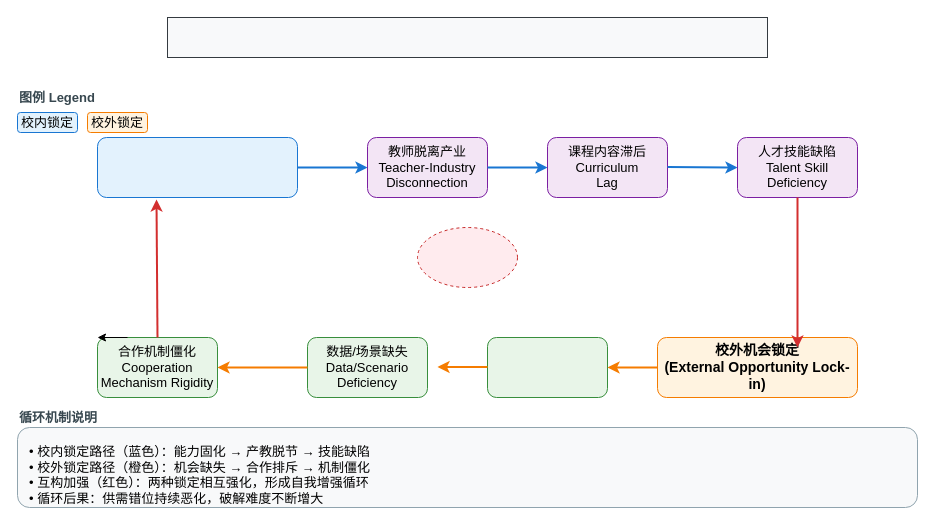
The diagram is 935 pixels wide and 525 high, and some of its shapes have lost their labels. The centre of each missing label's shape, as x and y in pixels:
"企业拒斥合作 Enterprise Cooperation Rejection" belongs at (x=547, y=367).
"恶性循环 Vicious Cycle" belongs at (x=467, y=257).
"校内能力锁定 (Internal Capability Lock-in)" belongs at (x=197, y=167).
"职业教育校企合作中的双重锁定恶性循环机制" belongs at (x=467, y=37).
